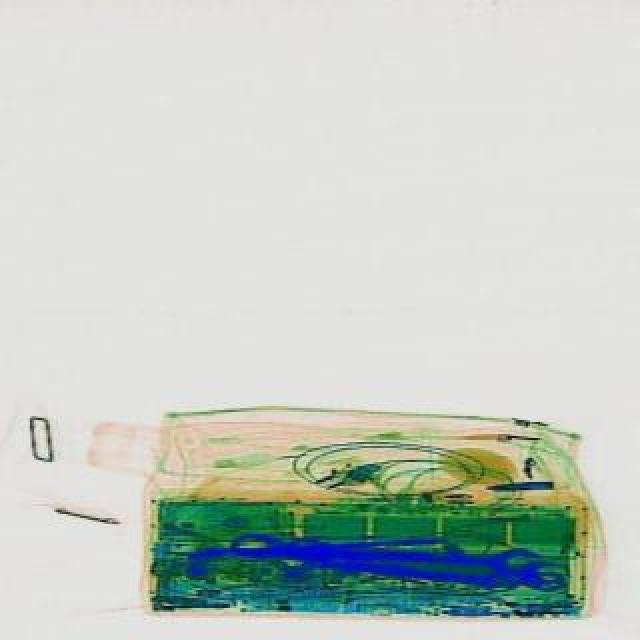scissors: (228, 524, 538, 580)
